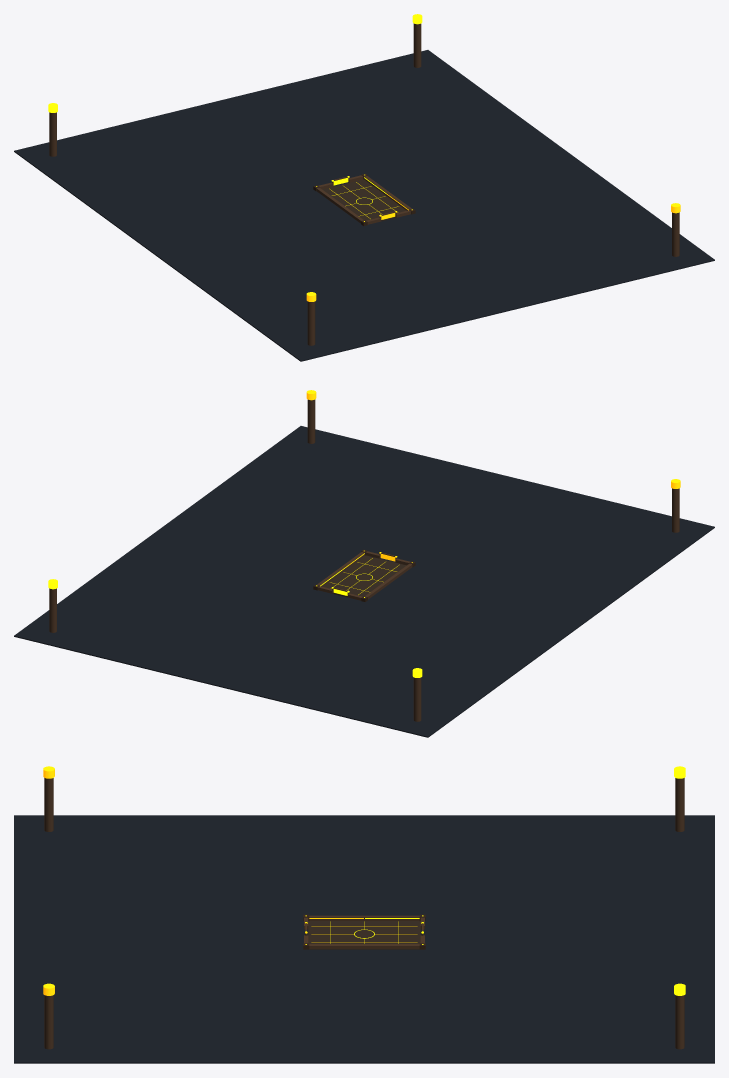
The model's file is mesa_wasteland_apocalypse.glb.
The picture shows the model from 3 angles, top to bottom: view 1: azimuth 30°, elevation 25°; view 2: azimuth 150°, elevation 25°; view 3: azimuth 270°, elevation 25°; orthographic projection. The views are drawn at different scales.
Visible parts, largest first — view 1: Cube.020, Wasteland_Surface; view 2: Cube.020, Wasteland_Surface; view 3: Cube.020, Wasteland_Surface, Wasteland_RailR, Wasteland_RailL, Cylinder.012, Cylinder.014, Cylinder.016, Cylinder.018.
Boxes of the visible parts, x1=… form: Cube.020: x1=14, y1=50, x2=714, y2=361; Wasteland_Surface: x1=322, y1=179, x2=406, y2=221; Cube.020: x1=14, y1=426, x2=714, y2=737; Wasteland_Surface: x1=322, y1=555, x2=406, y2=597; Cube.020: x1=14, y1=815, x2=714, y2=1063; Wasteland_Surface: x1=308, y1=921, x2=420, y2=949; Wasteland_RailR: x1=309, y1=944, x2=419, y2=949; Wasteland_RailL: x1=309, y1=915, x2=419, y2=920; Cylinder.012: x1=44, y1=778, x2=53, y2=831; Cylinder.014: x1=44, y1=995, x2=53, y2=1049; Cylinder.016: x1=675, y1=778, x2=684, y2=831; Cylinder.018: x1=675, y1=995, x2=684, y2=1049.
Size of the model in its own units: 10 by 1.18 by 12.
